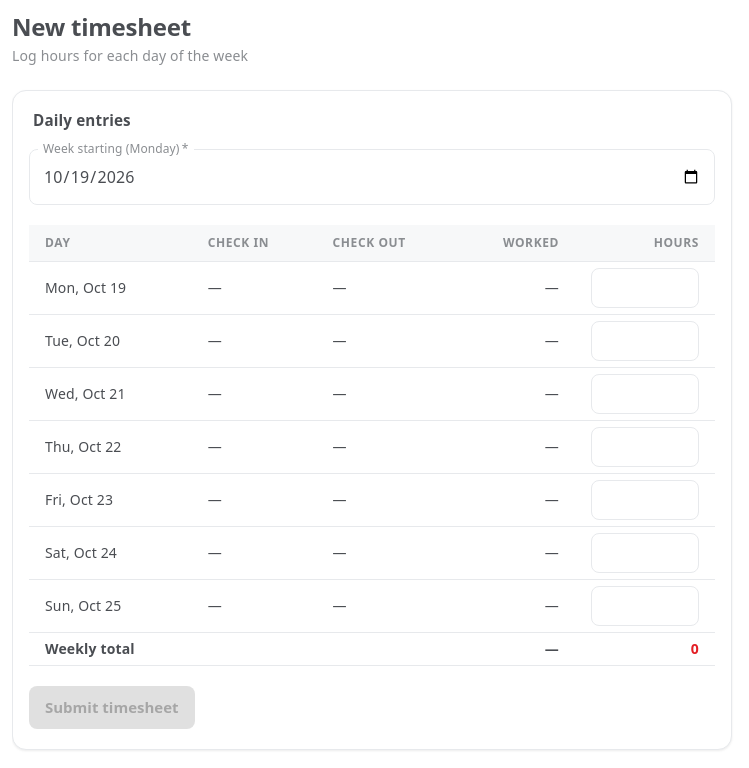
Test: new timesheet — default week › still normalizes a manually picked date to its Monday
The image size is (749, 768).
Pick Sunday Oct 4 → snaps forward to Monday Oct 5.
In the date field labelled "Week starting (Monday) *": coordinates (372, 177) left=29, top=149, right=715, bottom=205, type "2026-10-04"
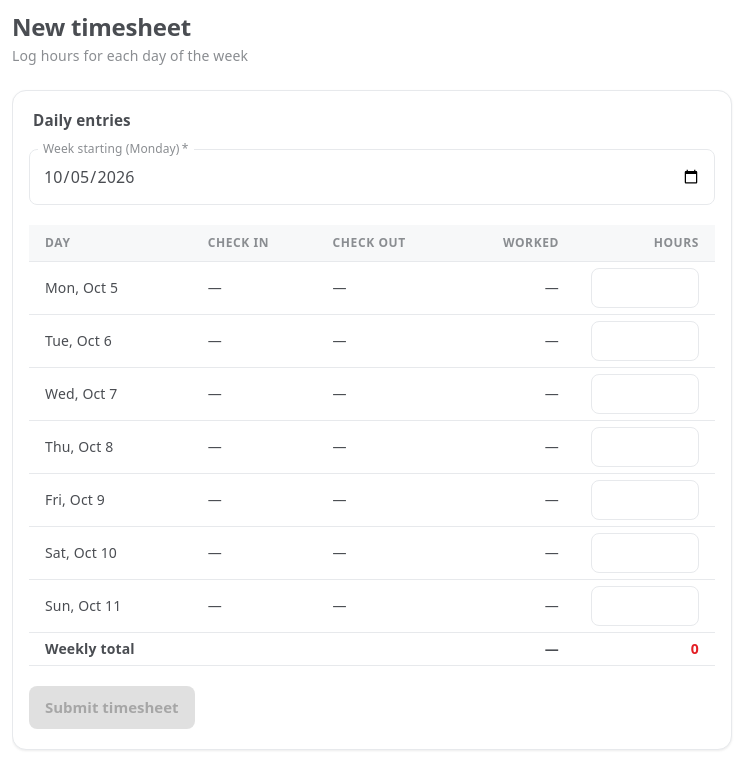
Check: the date field labelled "Week starting (Monday) *" holds "2026-10-05"
Pick a Wednesday → snaps back to that week's Monday.
In the date field labelled "Week starting (Monday) *": coordinates (372, 177) left=29, top=149, right=715, bottom=205, type "2026-09-30"
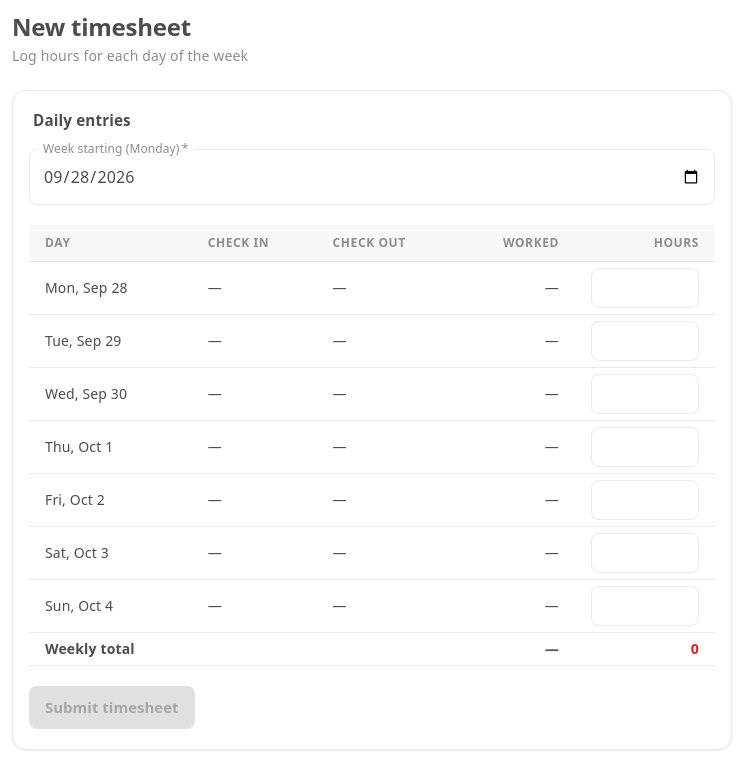
Check: the date field labelled "Week starting (Monday) *" holds "2026-09-28", box left=29, top=149, right=715, bottom=205
